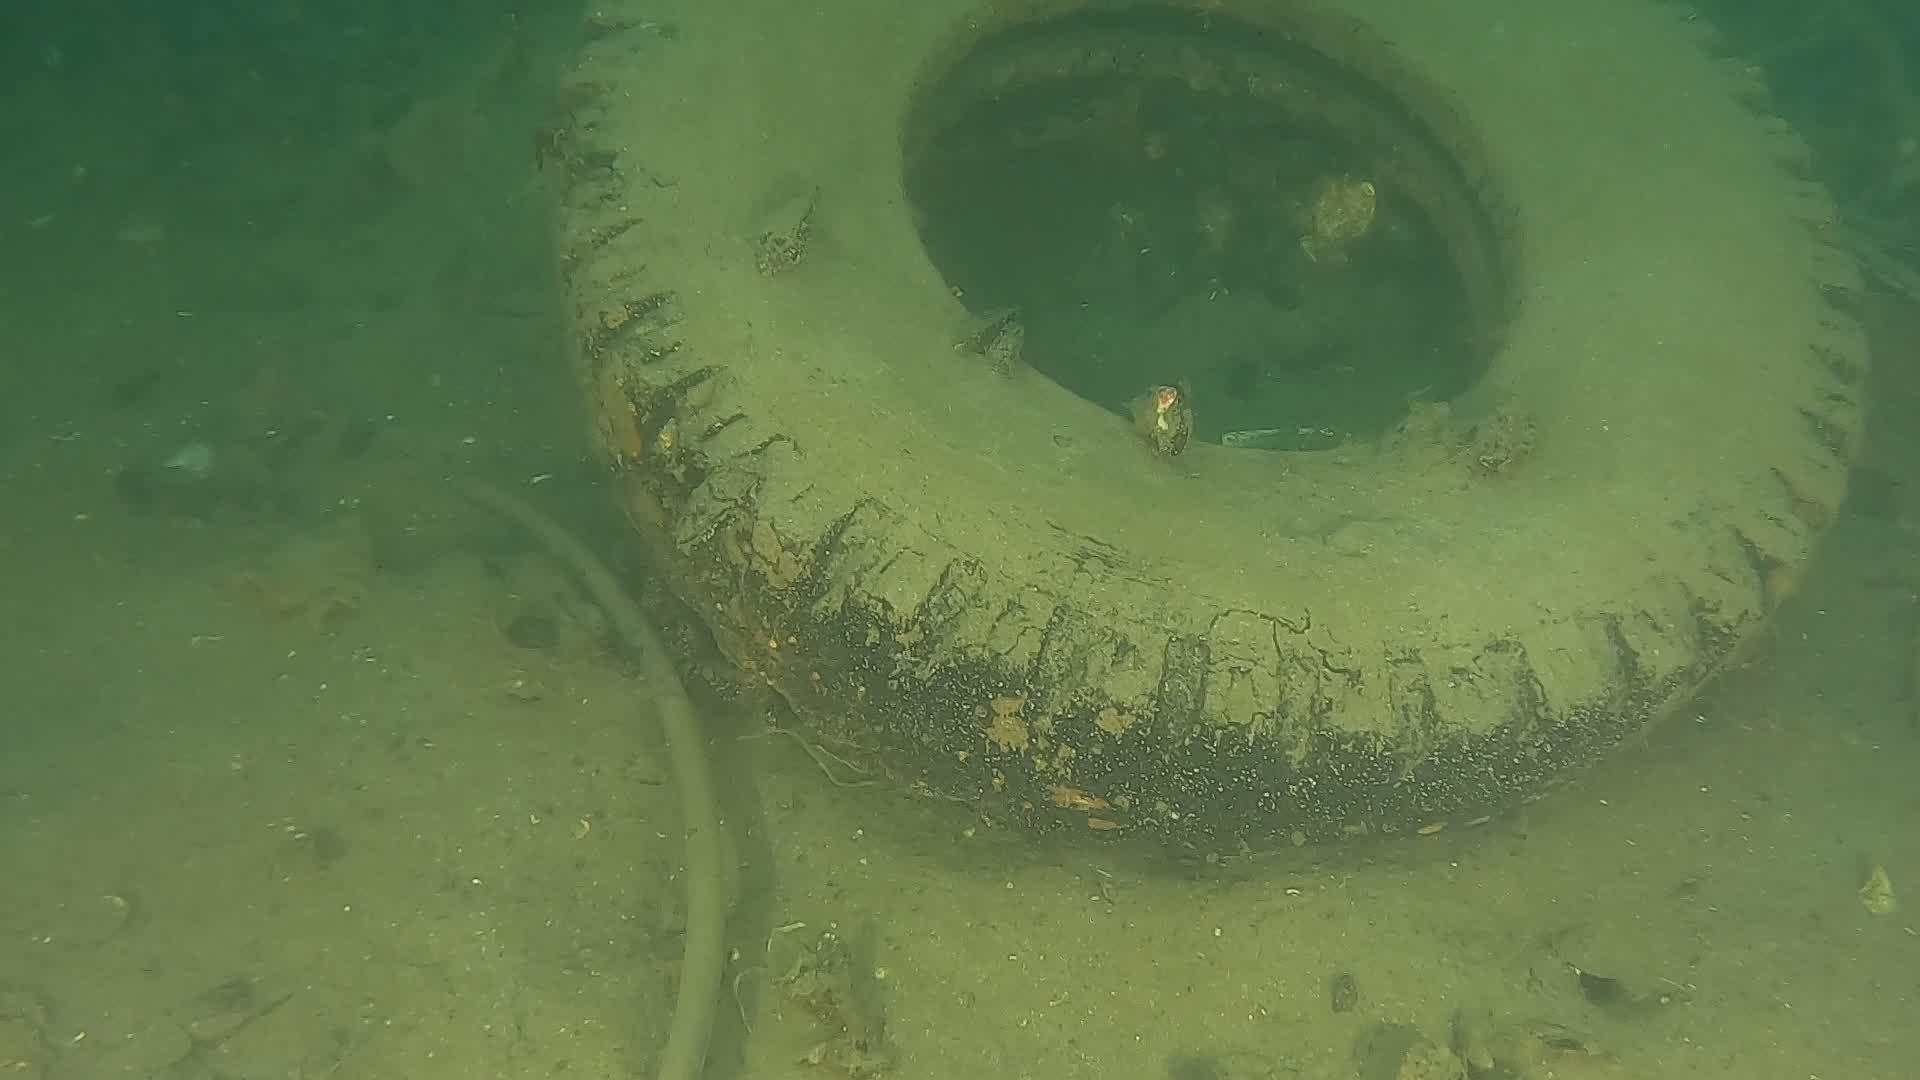tire: (549, 0, 1876, 873)
